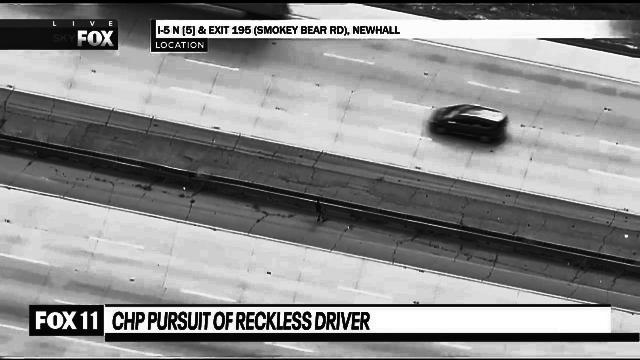berlari: (310, 193, 328, 227)
